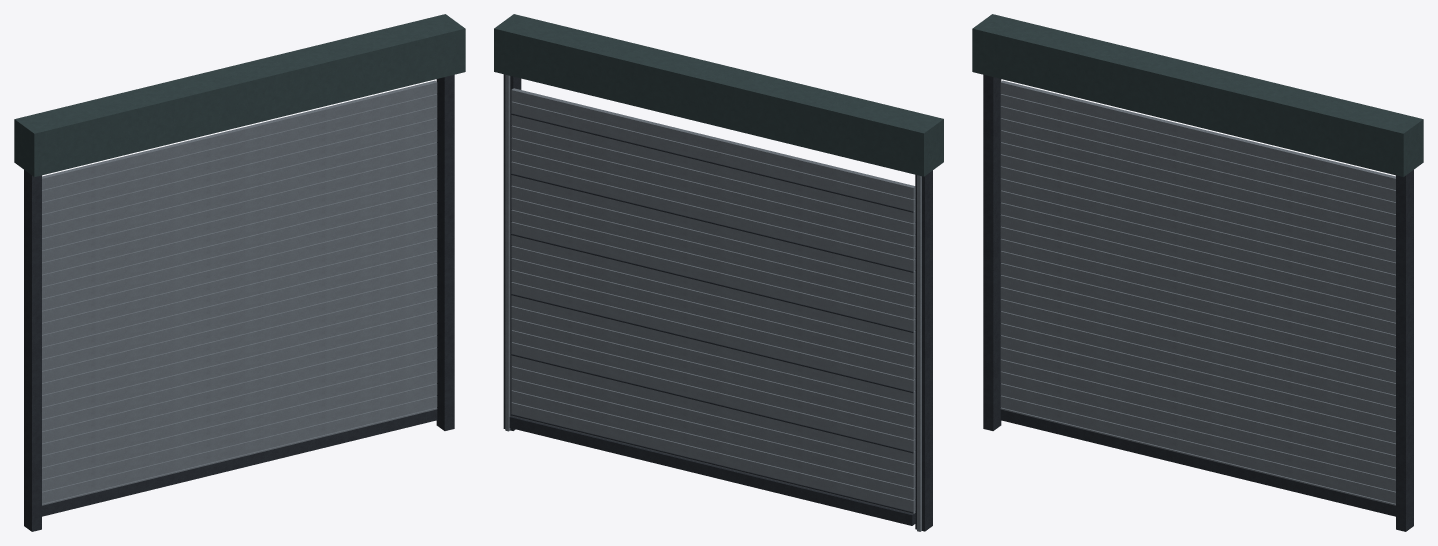
The model's file is Shop_Shutter.glb.
3 renders of one model, left to right at view 1: azimuth 30°, elevation 25°; view 2: azimuth 150°, elevation 25°; view 3: azimuth 330°, elevation 25°, orthographic.
Visible parts, largest first — view 1: VIS_steel, VIS_powdercoat, VIS_darksteel; view 2: VIS_steel, VIS_powdercoat, VIS_darksteel; view 3: VIS_steel, VIS_powdercoat, VIS_darksteel.
Boxes of the visible parts, x1,y1,x2,y2 form: VIS_steel: (42,80,437,505); VIS_powdercoat: (14,14,465,176); VIS_darksteel: (24,74,454,531); VIS_steel: (505,74,921,531); VIS_powdercoat: (494,14,943,176); VIS_darksteel: (503,74,932,531); VIS_steel: (1000,80,1395,505); VIS_powdercoat: (972,14,1423,176); VIS_darksteel: (983,74,1413,531).
Bounding box in the file's own units: 3.74 × 3.35 × 0.3.
3 materials, 3 textured.
